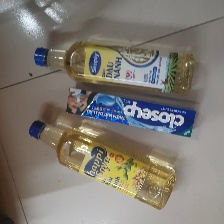CloseUp Tuyet: (66, 85, 197, 139)
Happy Soya: (27, 119, 177, 211)
Simply: (32, 39, 197, 97)
